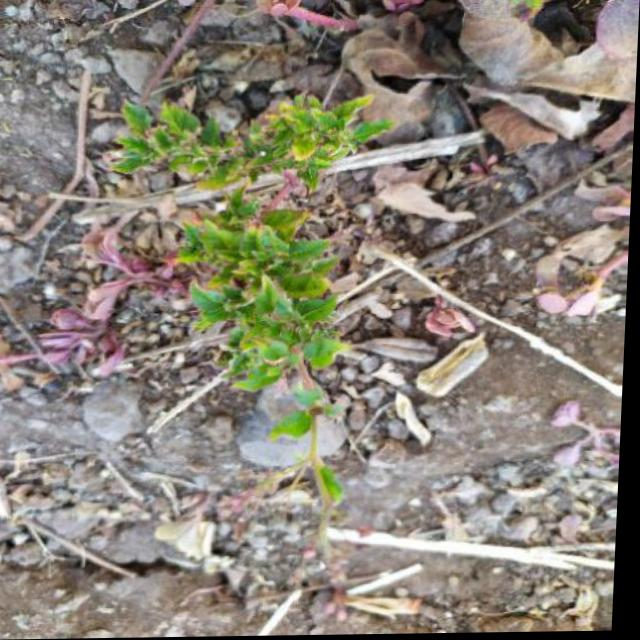weed: (92, 85, 416, 540)
